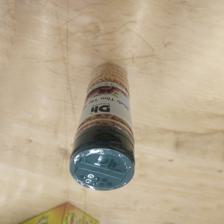TayNinh_green: (67, 61, 136, 191)
